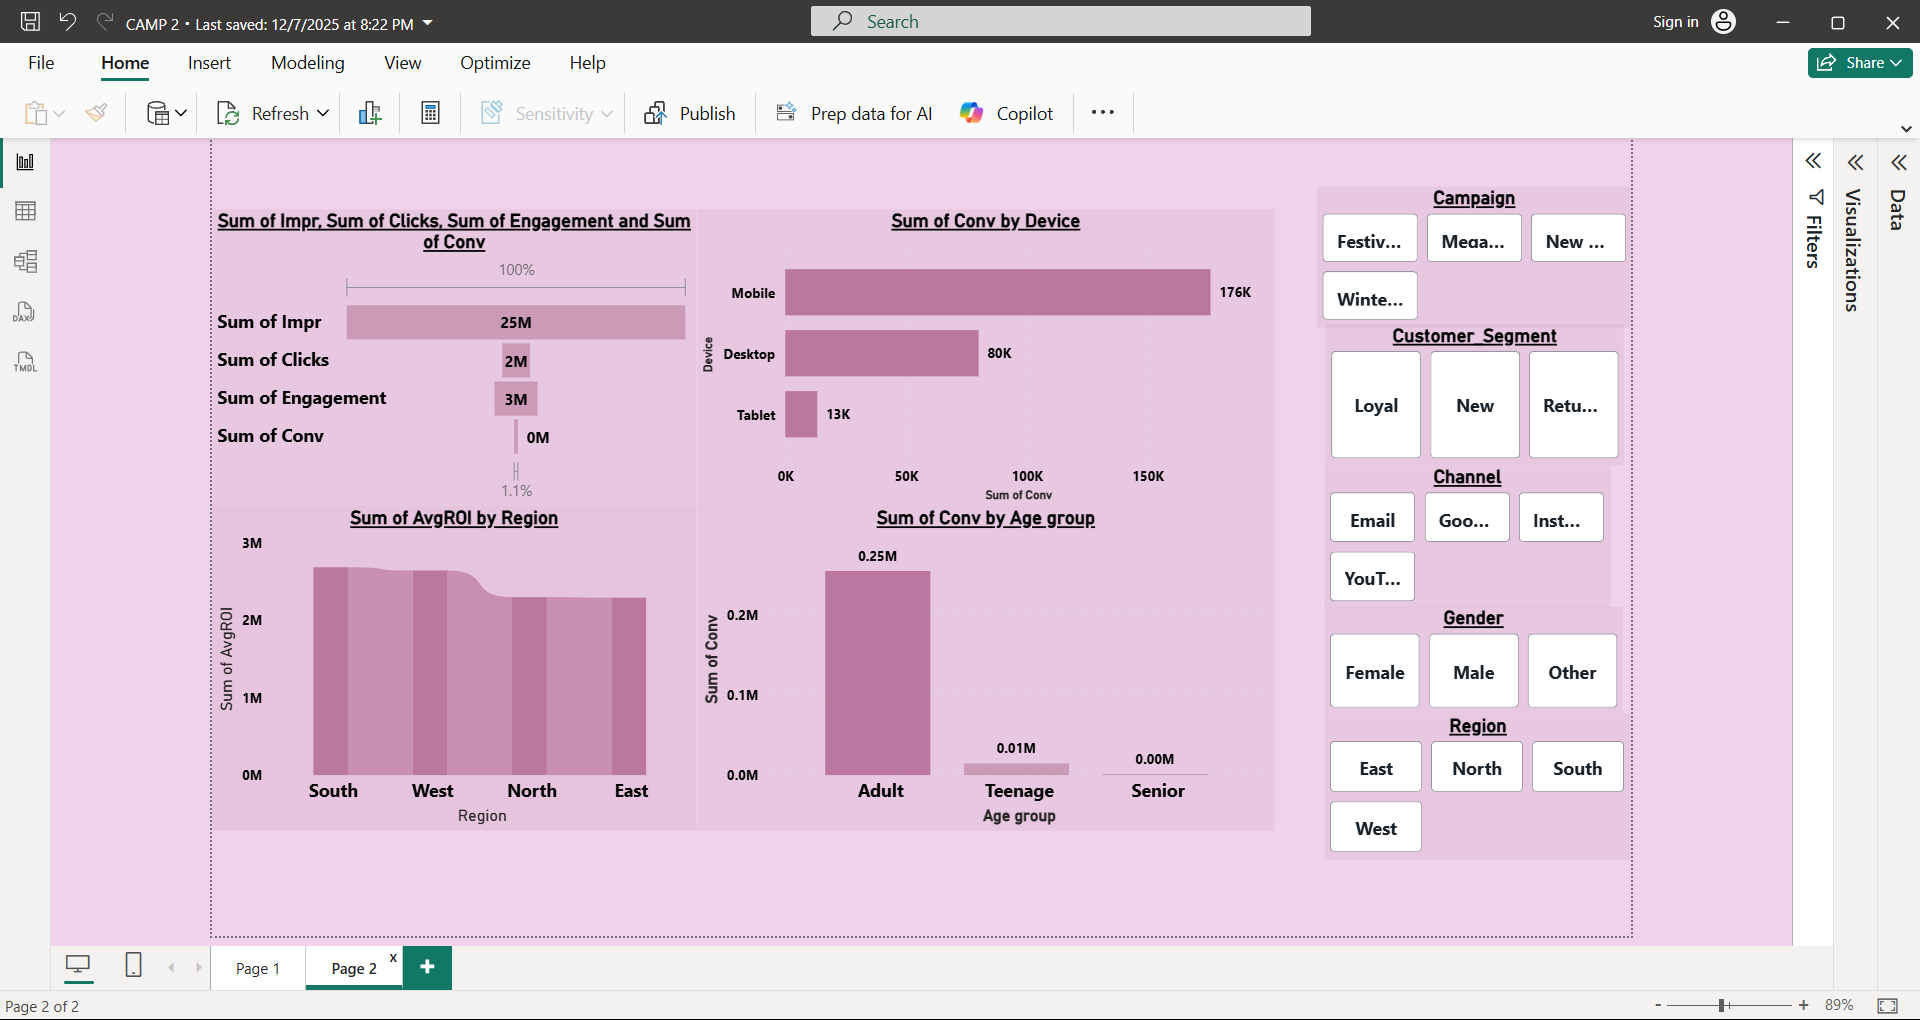

The dashboard page shown, as its layout file describes it:
{"tool":"powerbi","page":{"name":"Page 2","canvas":[1280,720],"ordinal":1},"visuals":[{"type":"funnel","fields":{"Y":["Sum(advanced_cleaned_market_anaylsis_sql.Impr)","Sum(advanced_cleaned_market_anaylsis_sql.Clicks)","Sum(advanced_cleaned_market_anaylsis_sql.Engagement)","Sum(advanced_cleaned_market_anaylsis_sql.Conv)"]},"box":[0,64,437,269],"z":0},{"type":"ribbonChart","fields":{"Category":["advanced_cleaned_market_anaylsis_sql.Region"],"Y":["Sum(advanced_cleaned_market_anaylsis_sql.AvgROI)"]},"box":[0,333,437,292],"z":1000},{"type":"clusteredBarChart","fields":{"Category":["advanced_cleaned_market_anaylsis_sql.Device"],"Y":["Sum(advanced_cleaned_market_anaylsis_sql.Conv)"]},"box":[437,64,521,269],"z":2000},{"type":"lineClusteredColumnComboChart","fields":{"Category":["advanced_cleaned_market_anaylsis_sql.Age group"],"Y":["Sum(advanced_cleaned_market_anaylsis_sql.Conv)"]},"box":[437,333,521,292],"z":3000},{"type":"advancedSlicerVisual","fields":{"Values":["advanced_cleaned_market_anaylsis_sql.Customer_Segment"]},"box":[1004,168,269,127],"z":4000},{"type":"advancedSlicerVisual","fields":{"Values":["advanced_cleaned_market_anaylsis_sql.Channel"]},"box":[1003,295,258,128],"z":5000},{"type":"advancedSlicerVisual","fields":{"Values":["advanced_cleaned_market_anaylsis_sql.Gender"]},"box":[1003,423,269,97],"z":6000},{"type":"advancedSlicerVisual","fields":{"Values":["advanced_cleaned_market_anaylsis_sql.Campaign"]},"box":[996,44,284,127],"z":7000},{"type":"advancedSlicerVisual","fields":{"Values":["advanced_cleaned_market_anaylsis_sql.Region"]},"box":[1003,520,277,131],"z":8000}]}

Visuals, with their boxes on the page's 1280x720 design canvas (x1, y1, x2, y2). These are canvas units, not pixel positions in the 1920x1020 screenshot, which may show the page scaled, cropped or inside an application window:
funnel - Sum(advanced_cleaned_market_anaylsis_sql.Impr) x Sum(advanced_cleaned_market_anaylsis_sql.Clicks): <region>0, 64, 437, 333</region>
ribbonChart - advanced_cleaned_market_anaylsis_sql.Region x Sum(advanced_cleaned_market_anaylsis_sql.AvgROI): <region>0, 333, 437, 625</region>
clusteredBarChart - advanced_cleaned_market_anaylsis_sql.Device x Sum(advanced_cleaned_market_anaylsis_sql.Conv): <region>437, 64, 958, 333</region>
lineClusteredColumnComboChart - advanced_cleaned_market_anaylsis_sql.Age group x Sum(advanced_cleaned_market_anaylsis_sql.Conv): <region>437, 333, 958, 625</region>
advancedSlicerVisual - advanced_cleaned_market_anaylsis_sql.Customer_Segment: <region>1004, 168, 1273, 295</region>
advancedSlicerVisual - advanced_cleaned_market_anaylsis_sql.Channel: <region>1003, 295, 1261, 423</region>
advancedSlicerVisual - advanced_cleaned_market_anaylsis_sql.Gender: <region>1003, 423, 1272, 520</region>
advancedSlicerVisual - advanced_cleaned_market_anaylsis_sql.Campaign: <region>996, 44, 1280, 171</region>
advancedSlicerVisual - advanced_cleaned_market_anaylsis_sql.Region: <region>1003, 520, 1280, 651</region>
